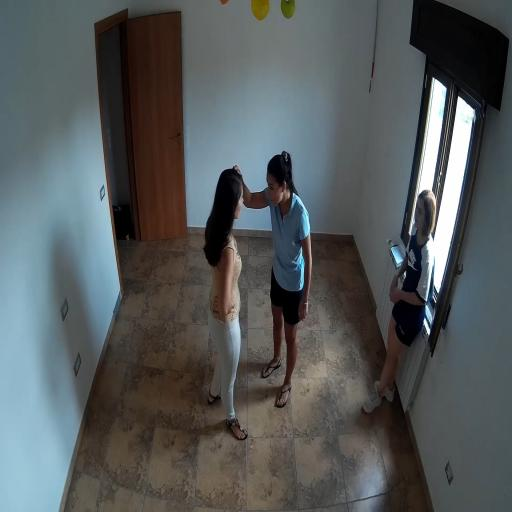nao-violencia: (193, 142, 322, 454)
